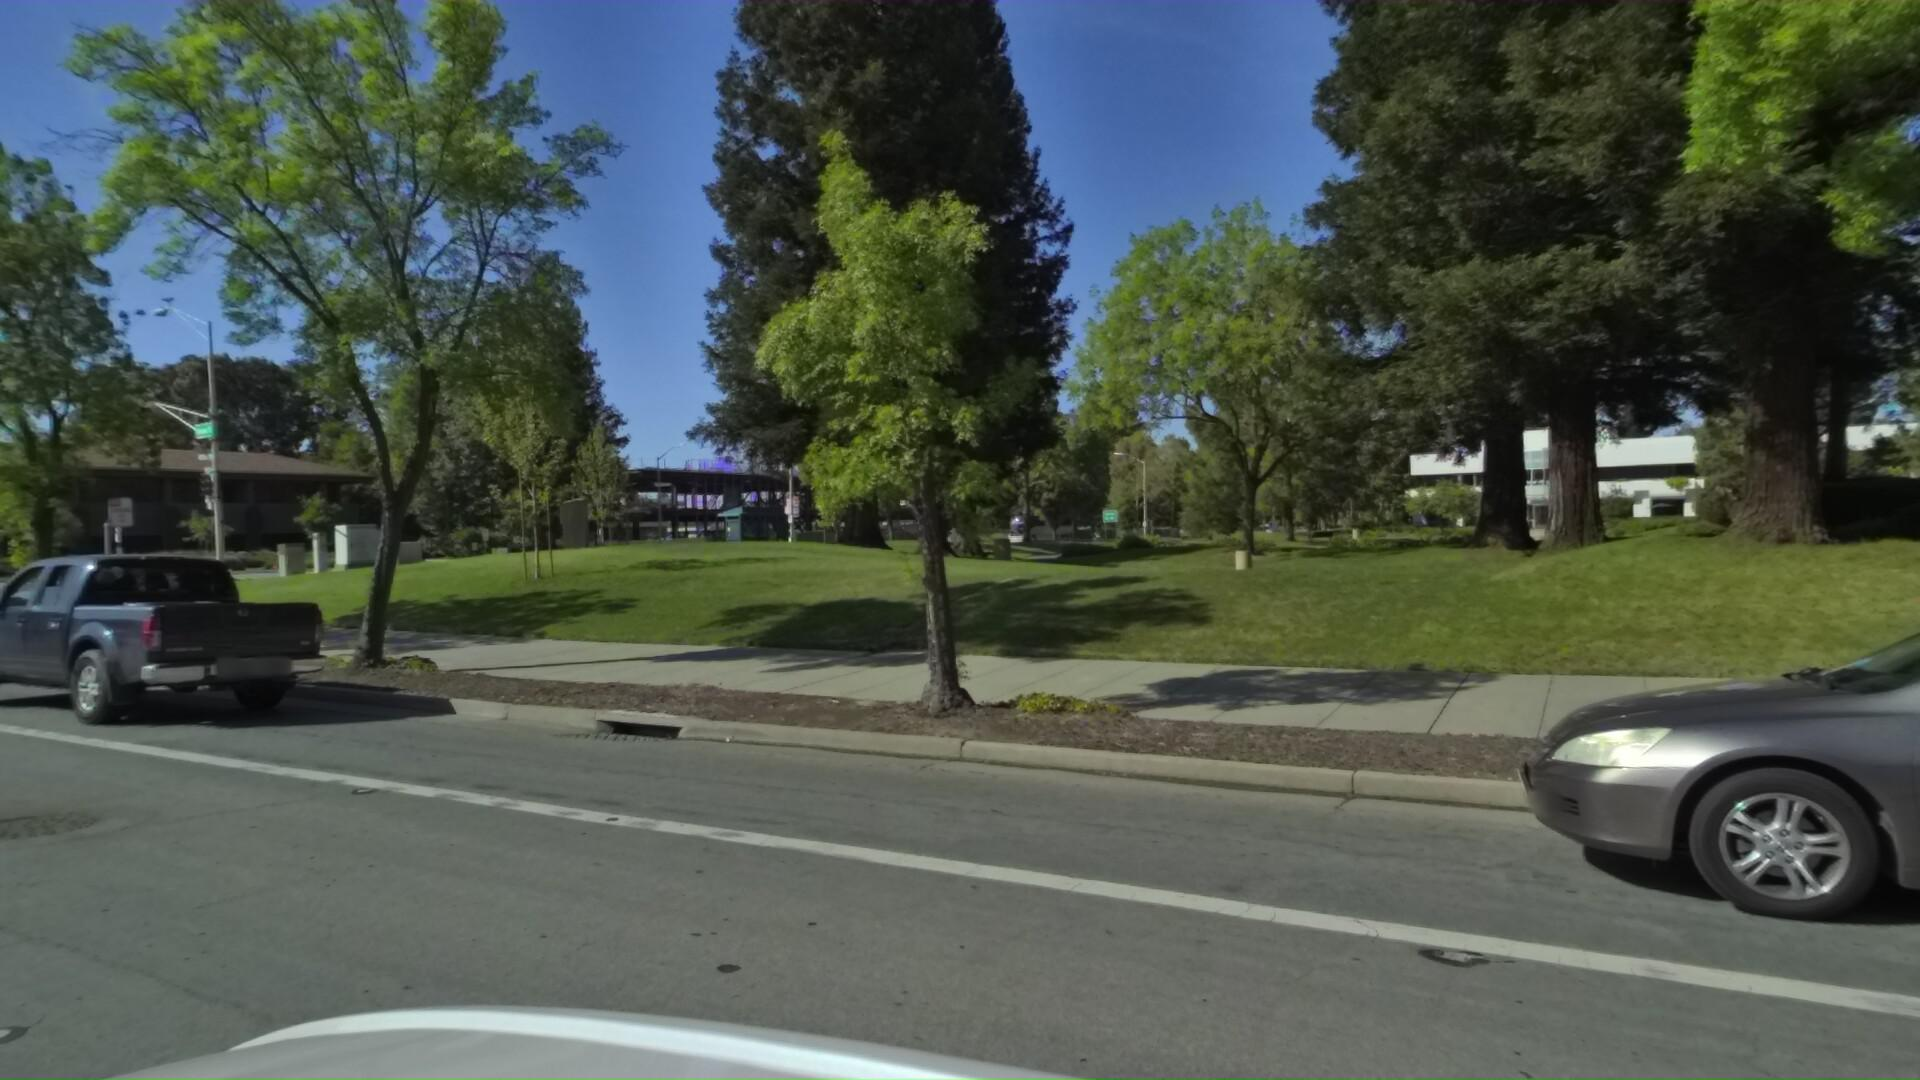car: (1414, 508, 1920, 1080), (0, 542, 326, 738)
